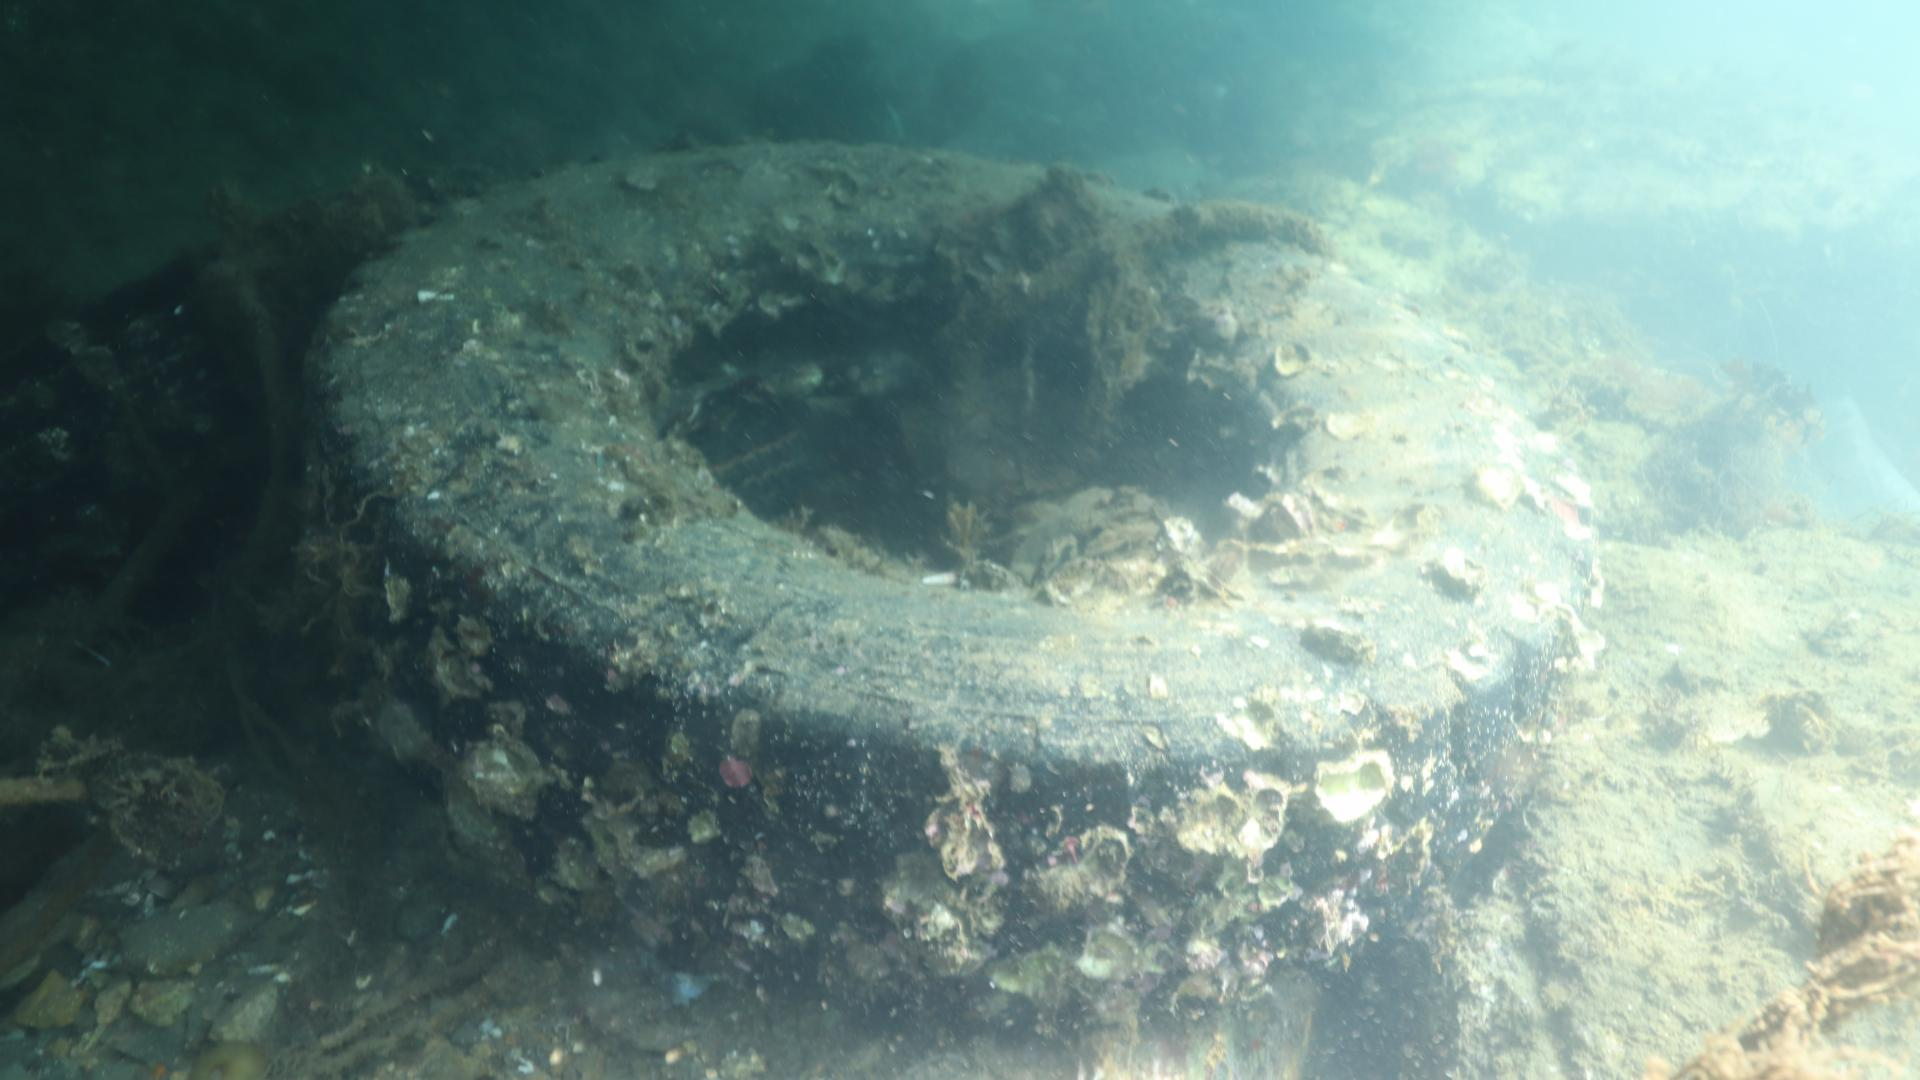rope: (945, 189, 1423, 398)
tire: (315, 142, 1596, 1080)
